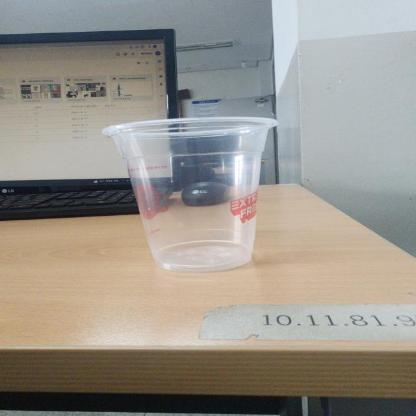Plastic Cup: (101, 116, 281, 272)
